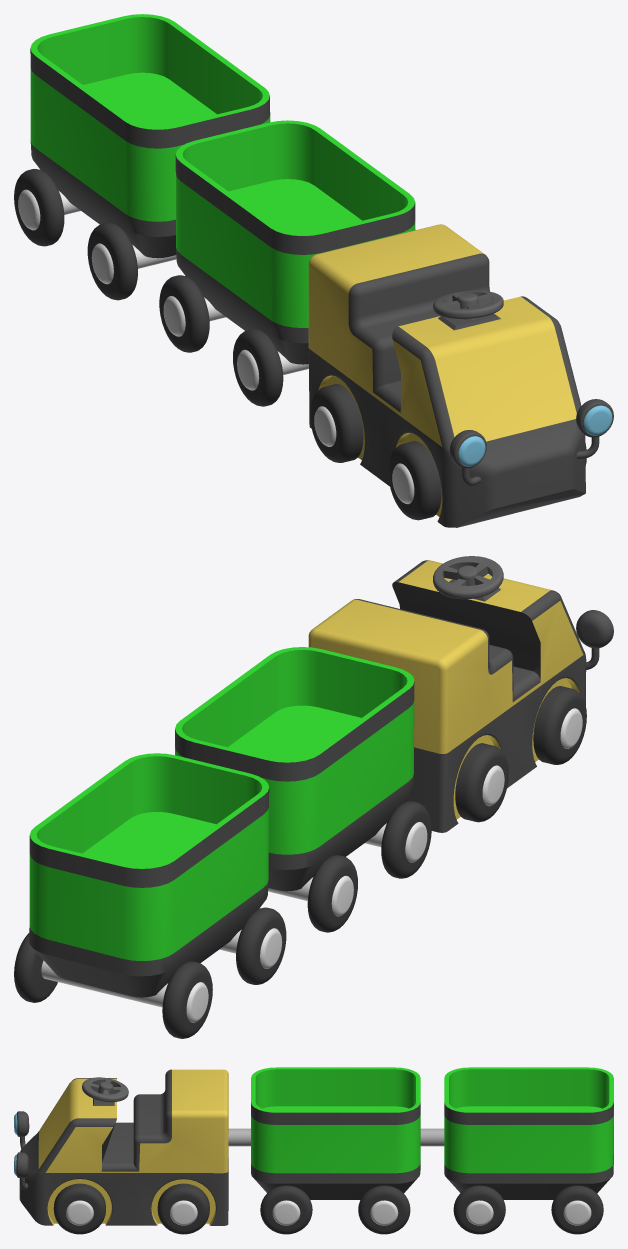
Rendered from kargoAraba1.fbx.
The picture shows the model from 3 angles, top to bottom: view 1: azimuth 30°, elevation 25°; view 2: azimuth 150°, elevation 25°; view 3: azimuth 270°, elevation 25°; orthographic projection. The views are drawn at different scales.
Visible parts, largest first — view 1: Cube, Cube.003, Cube.001, Cylinder.005, Cylinder.010, Cylinder.008, Cylinder.001, Cylinder.004, Cylinder.003; view 2: Cube.003, Cube.001, Cube, Cylinder.010, Cylinder.005, Cylinder.008, Cylinder.001, Cylinder.003; view 3: Cube, Cube.001, Cube.003, Cylinder.005, Cylinder.010, Cylinder.008, Cylinder.001, Cylinder.009, Cylinder, Cylinder.004, Cylinder.003.
Part boxes in pixels (left/top/right/bottom): Cube: left=308, top=224, right=585, bottom=527; Cube.003: left=30, top=14, right=270, bottom=258; Cube.001: left=175, top=120, right=415, bottom=364; Cylinder.005: left=310, top=384, right=586, bottom=520; Cylinder.010: left=14, top=169, right=176, bottom=300; Cylinder.008: left=159, top=275, right=308, bottom=406; Cylinder.001: left=433, top=290, right=503, bottom=318; Cylinder.004: left=576, top=399, right=613, bottom=458; Cylinder.003: left=449, top=430, right=486, bottom=485; Cube.003: left=29, top=753, right=269, bottom=997; Cube.001: left=175, top=647, right=414, bottom=891; Cube: left=308, top=560, right=586, bottom=832; Cylinder.010: left=14, top=907, right=286, bottom=1038; Cylinder.005: left=455, top=686, right=586, bottom=822; Cylinder.008: left=268, top=801, right=431, bottom=932; Cylinder.001: left=433, top=556, right=503, bottom=599; Cylinder.003: left=576, top=610, right=613, bottom=669; Cube: left=19, top=1069, right=228, bottom=1225; Cube.001: left=251, top=1067, right=420, bottom=1199; Cube.003: left=444, top=1067, right=613, bottom=1199; Cylinder.005: left=53, top=1183, right=209, bottom=1234; Cylinder.010: left=453, top=1185, right=603, bottom=1234; Cylinder.008: left=260, top=1185, right=410, bottom=1234; Cylinder.001: left=82, top=1077, right=128, bottom=1101; Cylinder.009: left=420, top=1128, right=444, bottom=1146; Cylinder: left=228, top=1128, right=250, bottom=1146; Cylinder.004: left=14, top=1152, right=29, bottom=1189; Cylinder.003: left=14, top=1111, right=29, bottom=1148.
Bounding box in the file's own units: 230 × 240 × 1035.
